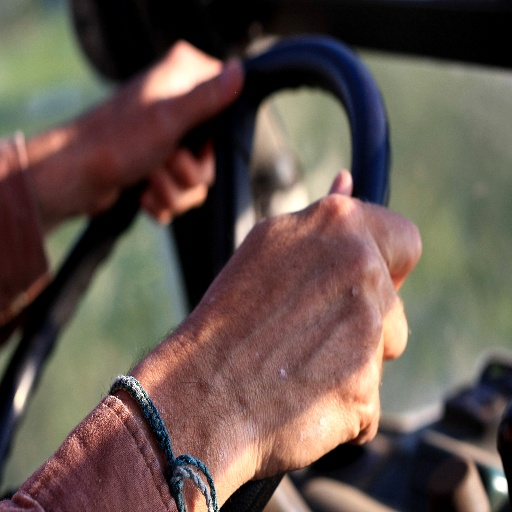hand: (186, 165, 423, 477), (73, 38, 241, 224)
